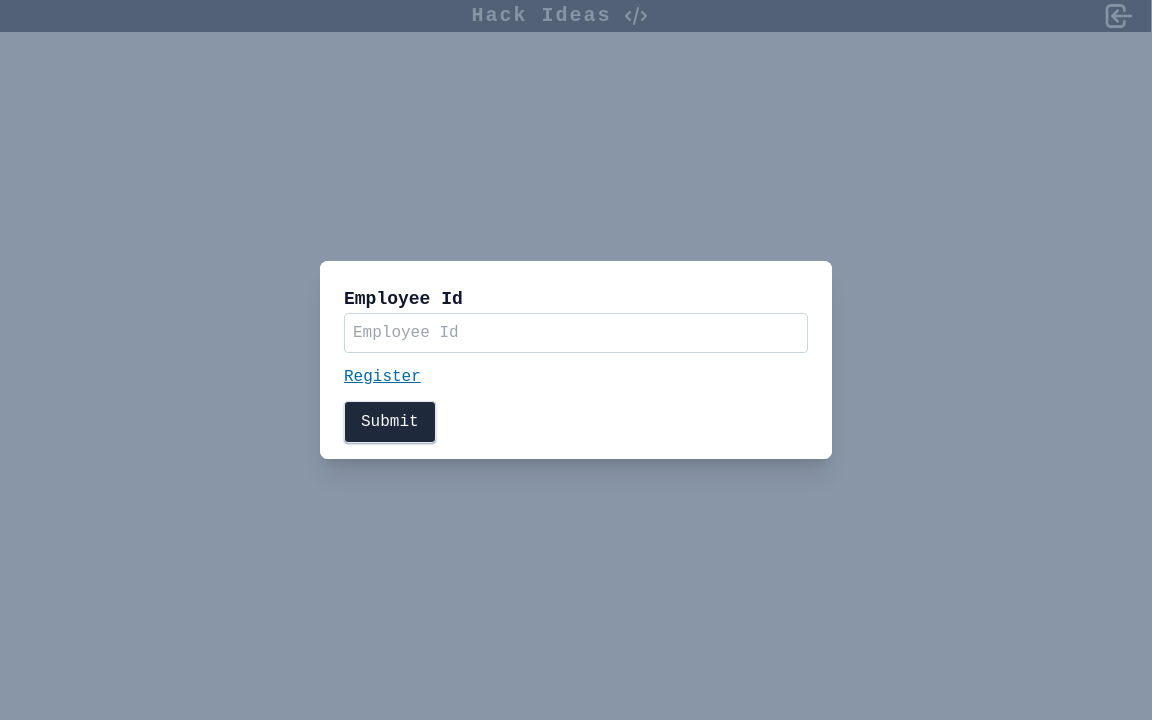
Test: Login › should show error message if emp id is not present
Type "12345" into the field with id "employeeId" at (576, 333), box [344, 313, 808, 353]
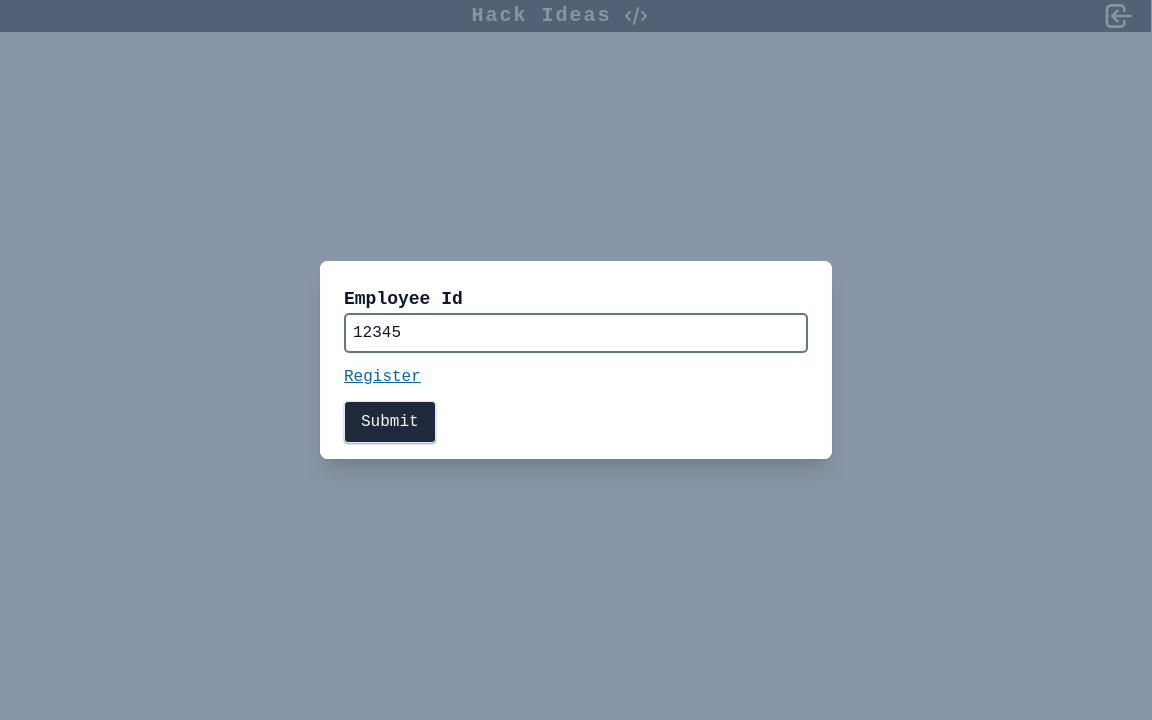
Click the button with id "login-submit" at (390, 422), box [344, 401, 436, 443]
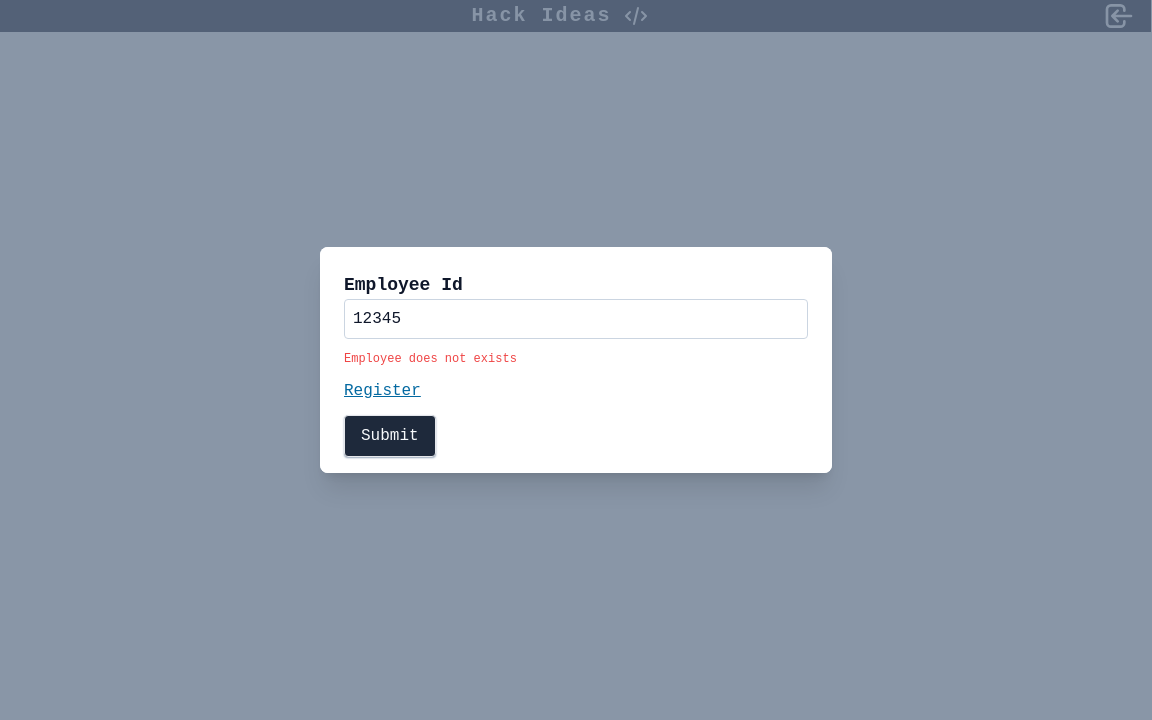
Now the text "Employee does not exists" is shown, box [344, 352, 517, 366]
